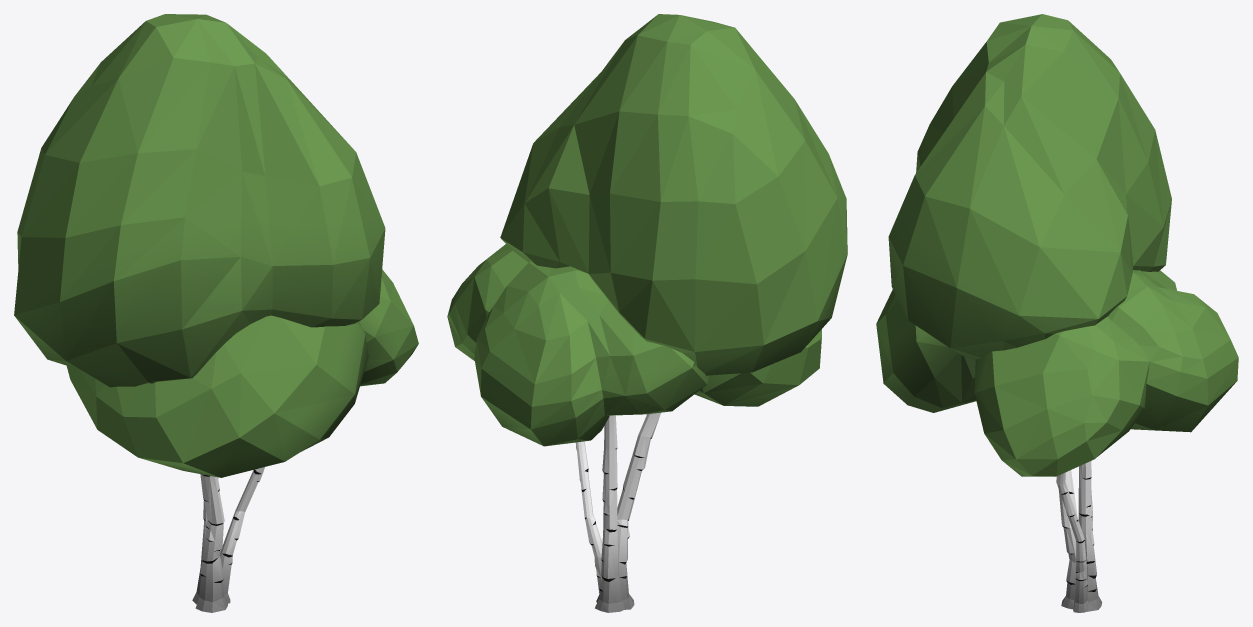
Rendered from TreeBirch-05.FBX.
The picture shows the model from 3 angles, left to right: view 1: azimuth 30°, elevation 25°; view 2: azimuth 150°, elevation 25°; view 3: azimuth 270°, elevation 25°; orthographic projection. The views are drawn at different scales.
Parts seen in each view (by area): view 1: TreeBirch-05; view 2: TreeBirch-05; view 3: TreeBirch-05.
Boxes of the visible parts, left/top/right/bottom form: TreeBirch-05: left=14, top=14, right=418, bottom=612; TreeBirch-05: left=447, top=14, right=847, bottom=612; TreeBirch-05: left=876, top=14, right=1238, bottom=612.
Size of the model in its own units: 785 by 1195 by 700.
1 material, 1 textured.
